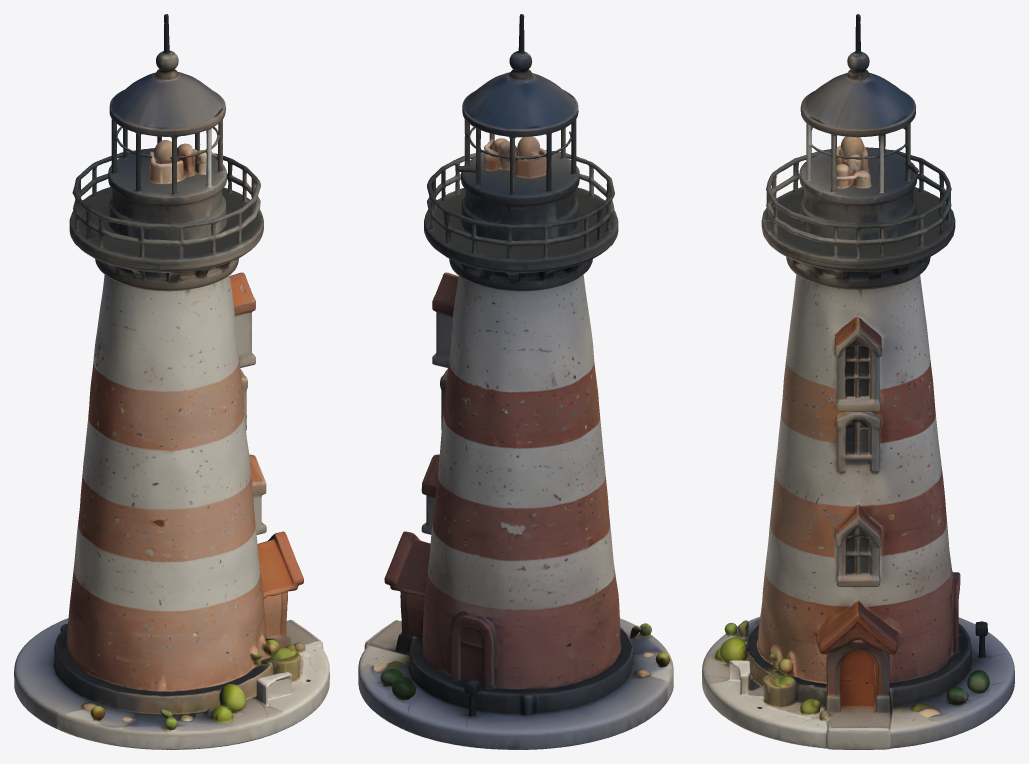
Rendered from building-lighthouse.glb.
3 renders of one model, left to right at view 1: azimuth 30°, elevation 25°; view 2: azimuth 150°, elevation 25°; view 3: azimuth 270°, elevation 25°, orthographic.
Parts seen in each view (by area): view 1: tripo_node_005f6b01-4140-4a9f-9c89-1972edaa82cd; view 2: tripo_node_005f6b01-4140-4a9f-9c89-1972edaa82cd; view 3: tripo_node_005f6b01-4140-4a9f-9c89-1972edaa82cd.
Boxes of the visible parts, <box> form: tripo_node_005f6b01-4140-4a9f-9c89-1972edaa82cd: <box>14,14,329,749</box>; tripo_node_005f6b01-4140-4a9f-9c89-1972edaa82cd: <box>358,14,673,749</box>; tripo_node_005f6b01-4140-4a9f-9c89-1972edaa82cd: <box>702,14,1014,749</box>.
Size of the model in its own units: 6.82 by 16 by 6.79.
Materials: 1 (1 with a texture image).
